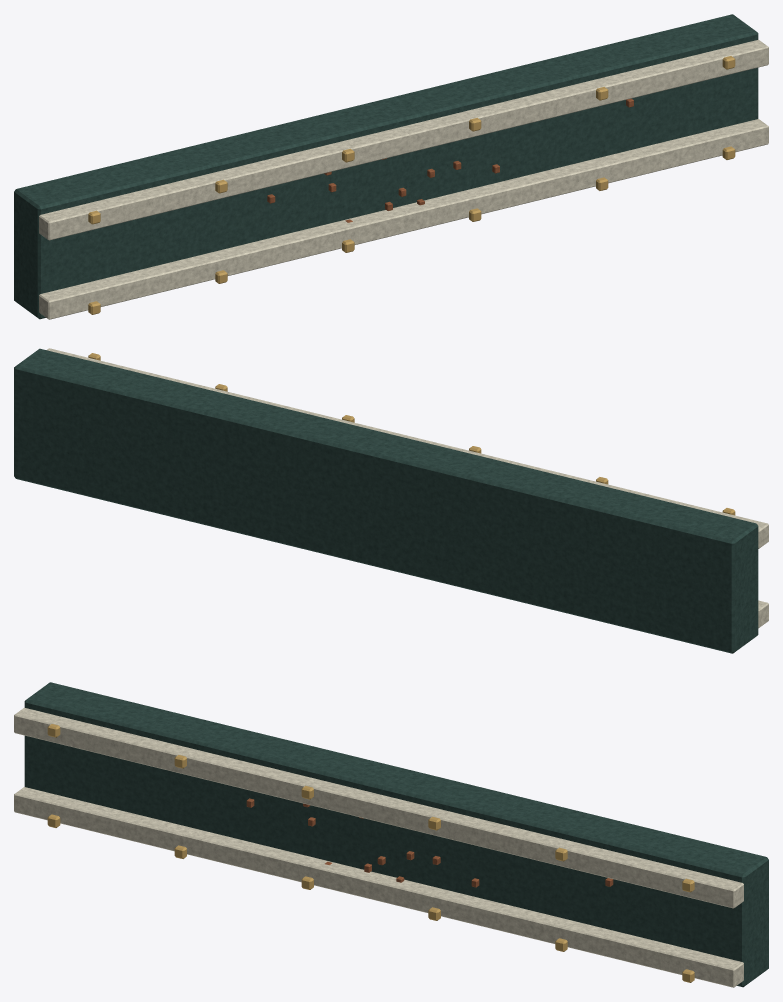
File: TOP1A_lod0.glb
3 renders of one model, top to bottom at view 1: azimuth 30°, elevation 25°; view 2: azimuth 150°, elevation 25°; view 3: azimuth 330°, elevation 25°, orthographic.
Visible parts, largest first — view 1: TOP1A_LOD0; view 2: TOP1A_LOD0; view 3: TOP1A_LOD0.
Boxes of the visible parts, x1,y1,x2,y2 form: TOP1A_LOD0: (14,14,768,319); TOP1A_LOD0: (14,348,768,653); TOP1A_LOD0: (14,682,768,987).
Bounding box in the file's own units: 4 × 0.6 × 0.39.
4 materials, 3 textured.
